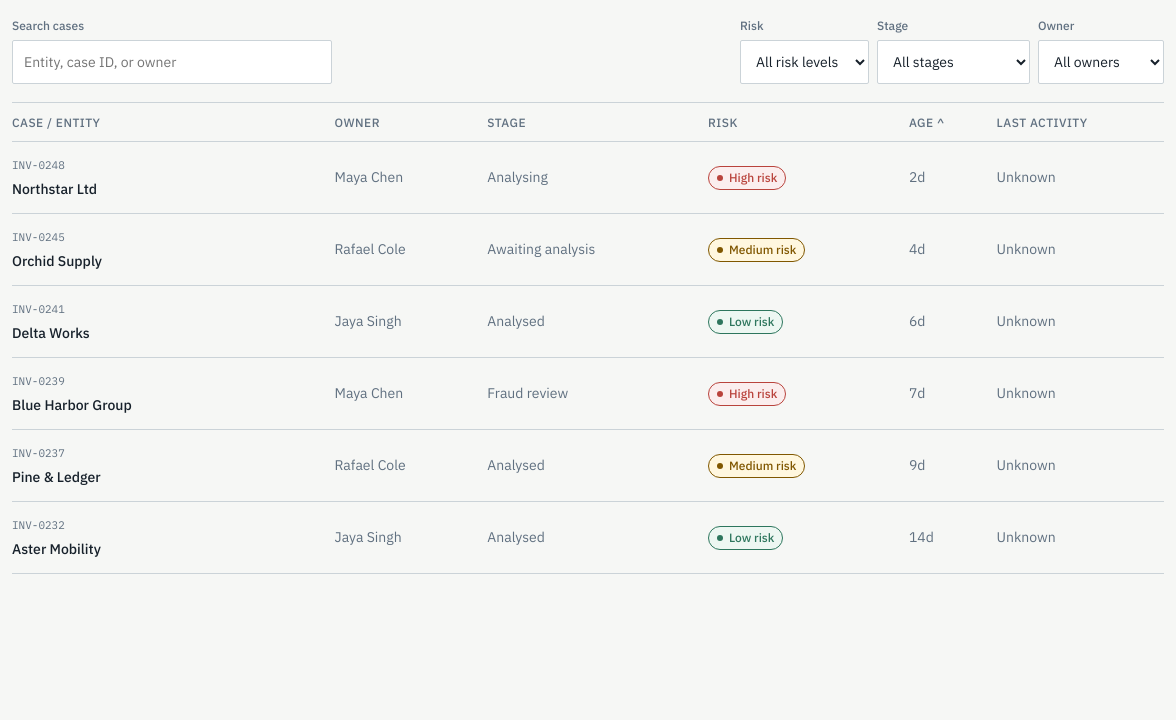
Test case: CaseQueue › filters cases by stage
This screenshot has width=1176, height=720.
Select "Analysed" in the dropdown labelled "Stage" at (954, 62), box [877, 40, 1030, 84]
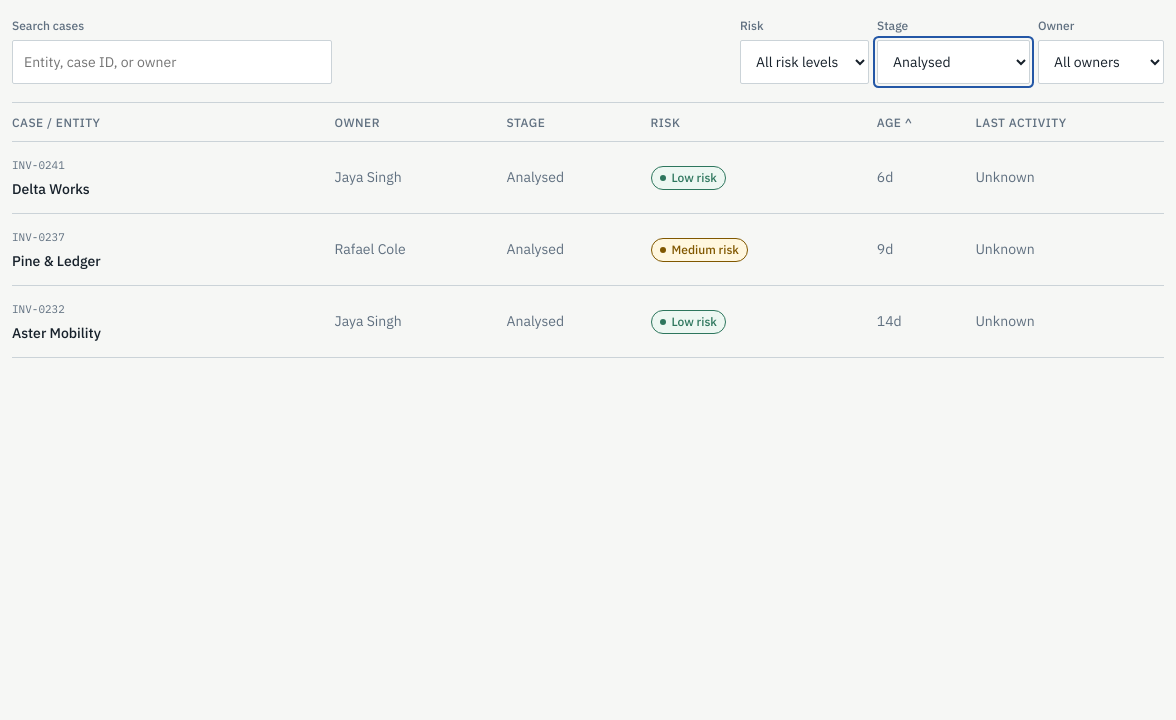
Now the number of rows is 4, box [12, 103, 1164, 142]; [12, 142, 1164, 214]; [12, 214, 1164, 286]; [12, 286, 1164, 358]
